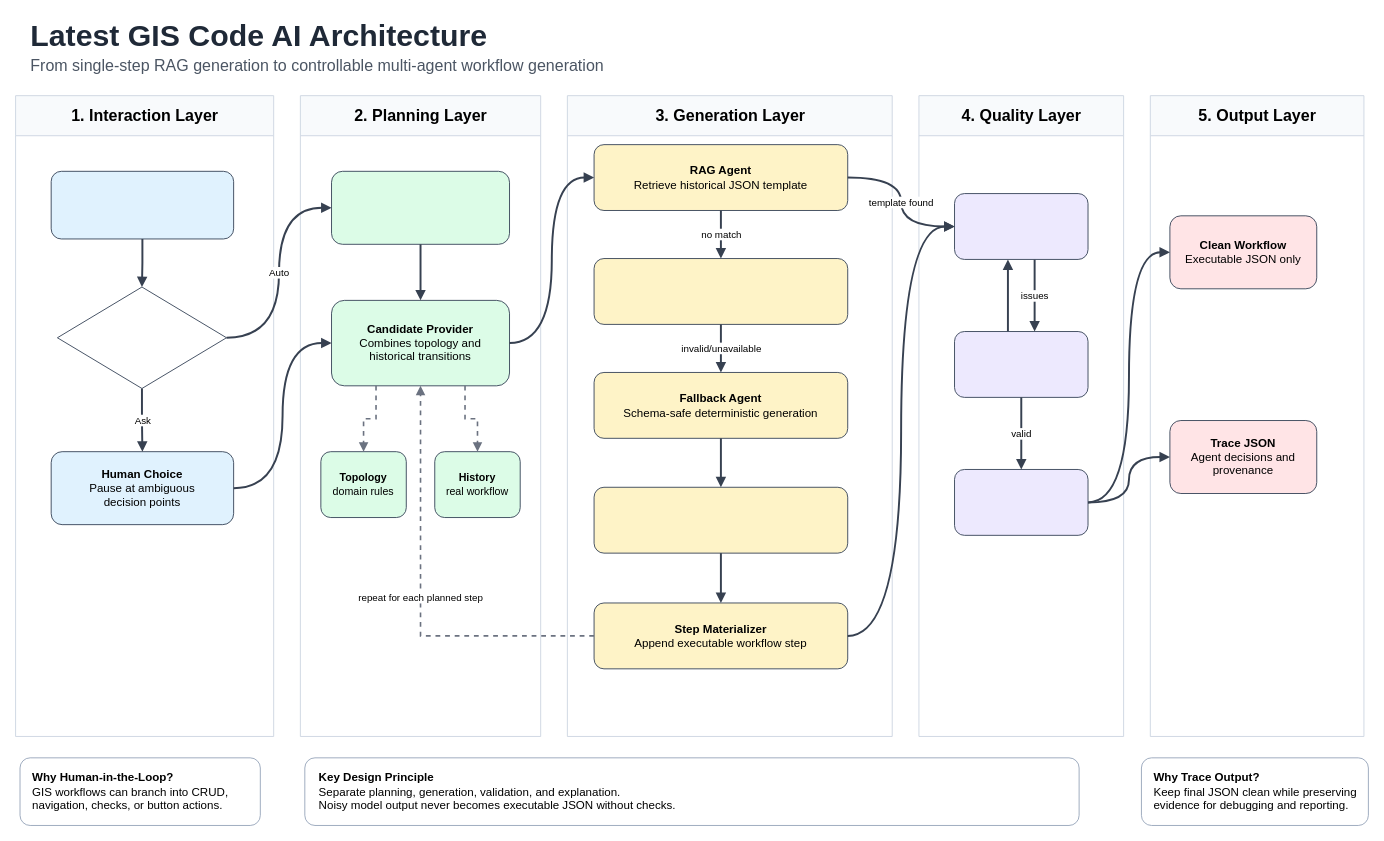
Some shapes in this 1384 by 841 pixel diagram are drawn without their labels. The shapes that lost their labels are listed below. From the top down, each one's centre as x and y in pixels, then its label:
point (142, 204): User Instruction Natural-language GIS task
point (420, 207): Planner Agent Creates step intents
point (1021, 226): Validator schema and IDs
point (720, 291): Fine-Tuned Model Agent Generate JSON when RAG has no match
point (142, 337): Planning Mode? auto or ask user
point (1021, 364): Repairer fix recoverable errors
point (720, 519): Template Normalizer Map RAG/LLM output to step schema
point (1021, 502): Reviewer status and confidence
